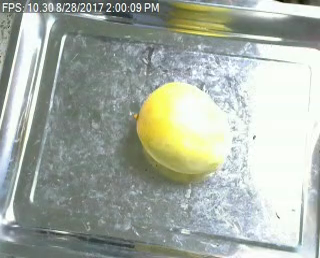Mango: (132, 78, 232, 177)
